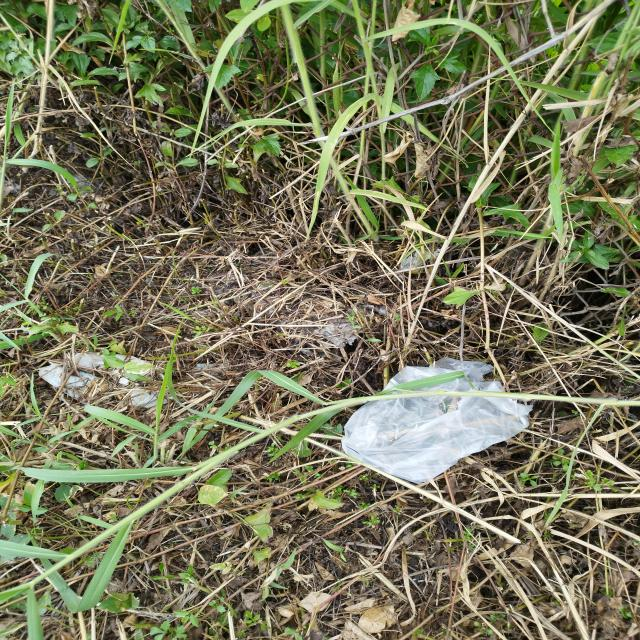bag: (342, 358, 532, 484)
